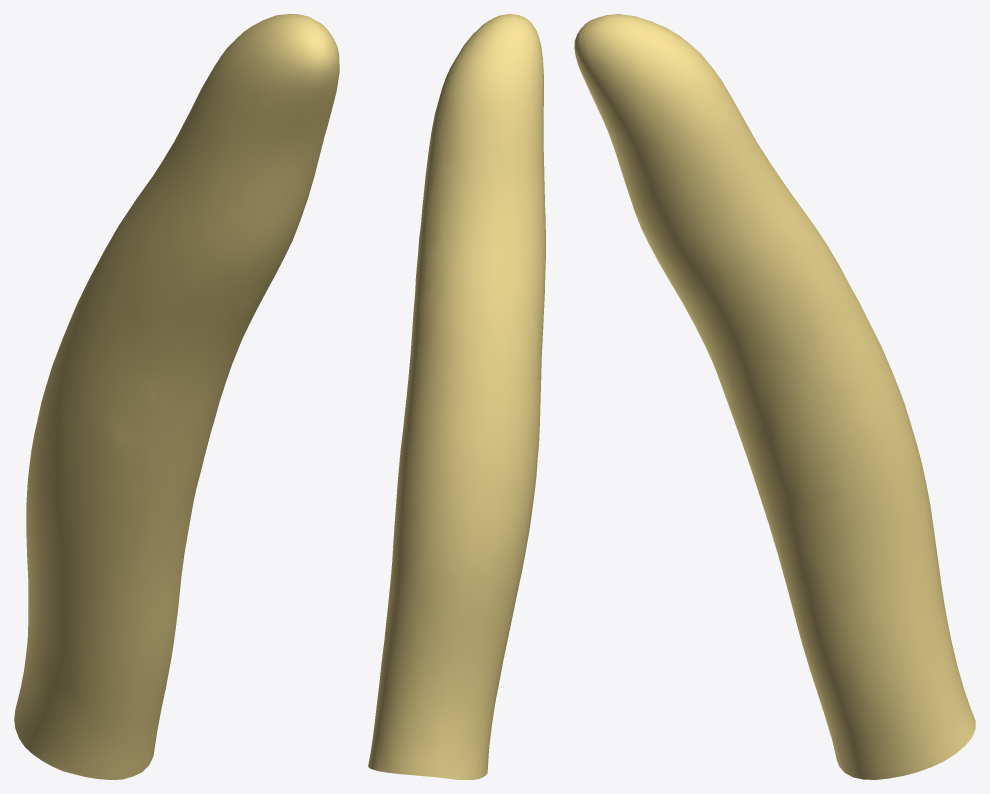
Rendered from fma235322-l_mm3535.glb.
The picture shows the model from 3 angles, left to right: view 1: azimuth 30°, elevation 25°; view 2: azimuth 150°, elevation 25°; view 3: azimuth 270°, elevation 25°; orthographic projection. The views are drawn at different scales.
Visible parts, largest first — view 1: FMA235322-L_MM3535; view 2: FMA235322-L_MM3535; view 3: FMA235322-L_MM3535.
Part boxes in pixels (x1,y1,x2,y2): FMA235322-L_MM3535: (14,14,339,779); FMA235322-L_MM3535: (368,14,545,779); FMA235322-L_MM3535: (574,14,975,779).
Bounding box in the file's own units: 0.00234 × 0.0099 × 0.00467.
